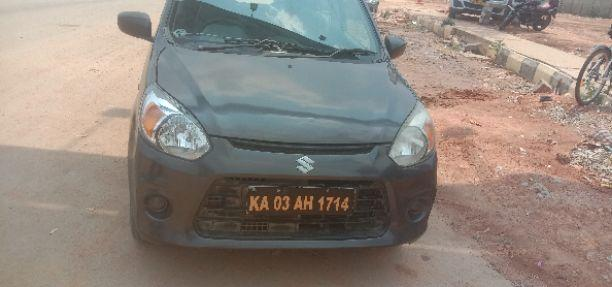license_plate: (239, 183, 356, 220)
